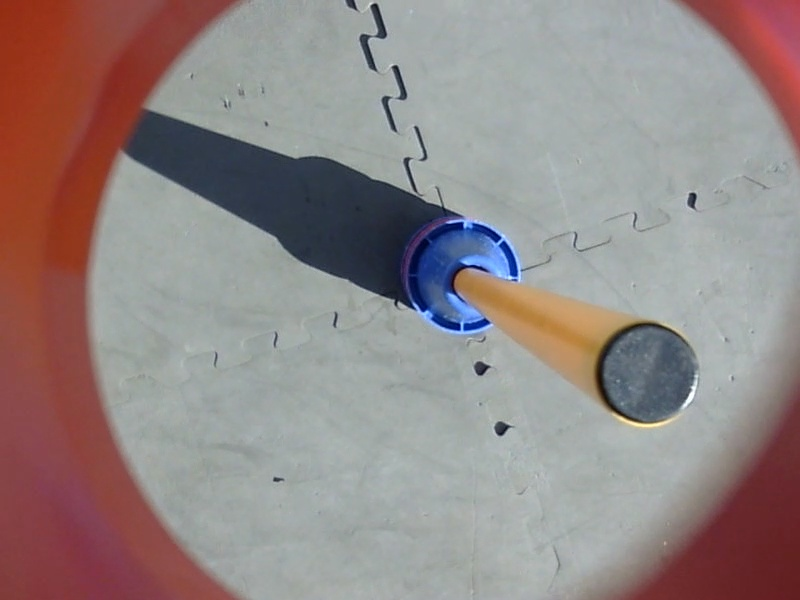tip: (586, 314, 706, 434)
